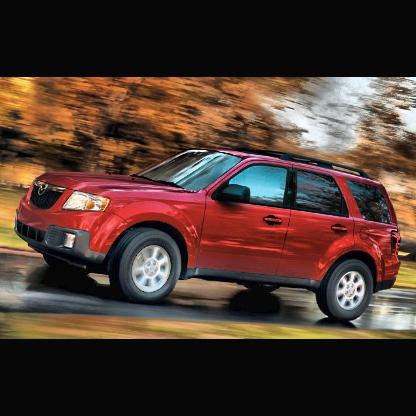Mazda Tribute SUV 2011: (14, 145, 405, 329)
